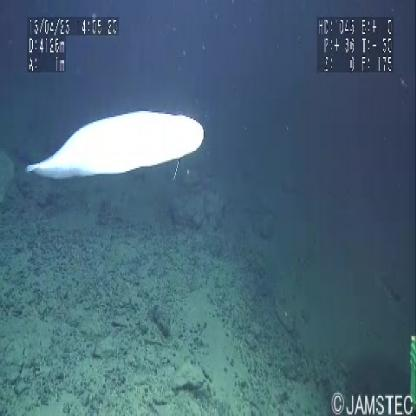Bio: (23, 103, 207, 190)
